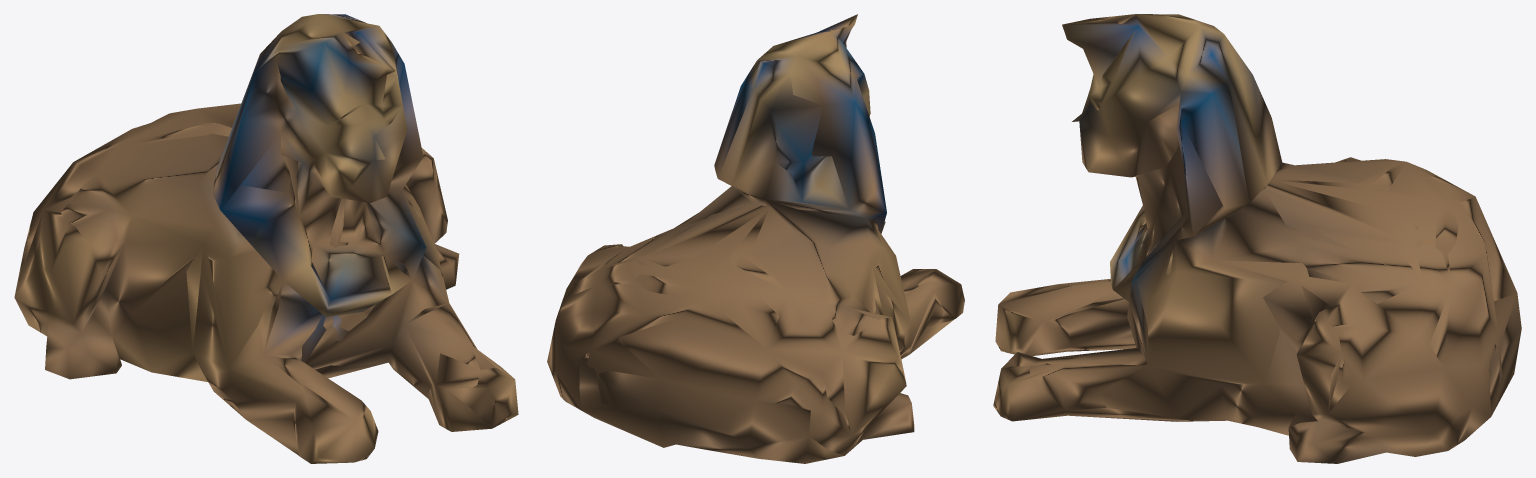
Rendered from gen3d-sphinx-lod1.glb.
3 views of the same model, side by side, from view 1: azimuth 30°, elevation 25°; view 2: azimuth 150°, elevation 25°; view 3: azimuth 270°, elevation 25° (orthographic). The views are drawn at different scales.
Parts seen in each view (by area): view 1: part_0; view 2: part_0; view 3: part_0.
Part boxes in pixels (box(x1,y1,x2,y2)): part_0: box(14, 14, 518, 463); part_0: box(547, 14, 964, 463); part_0: box(993, 14, 1521, 463).
Bounding box in the file's own units: 1.15 × 0.9914 × 1.32.
